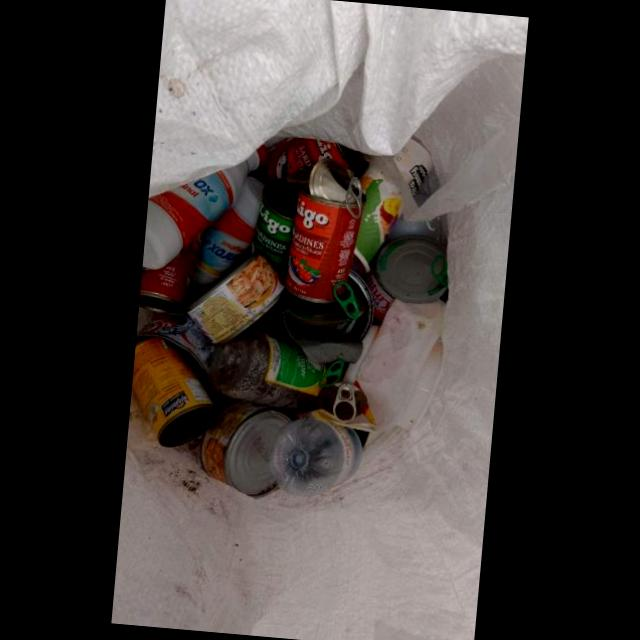carton: (354, 136, 433, 272)
chai_nhua: (209, 331, 333, 409), (189, 174, 264, 292)
chai_nhua_pet: (269, 418, 362, 497)
hop_nhua: (355, 298, 446, 429), (395, 333, 442, 434)
nhom: (141, 145, 266, 270), (285, 157, 362, 301), (131, 338, 215, 446), (186, 252, 283, 343), (199, 401, 289, 495), (262, 137, 362, 219), (280, 304, 373, 387), (365, 235, 447, 321), (134, 311, 216, 393), (280, 269, 372, 325), (249, 179, 297, 279), (138, 237, 198, 310), (297, 382, 377, 428)
